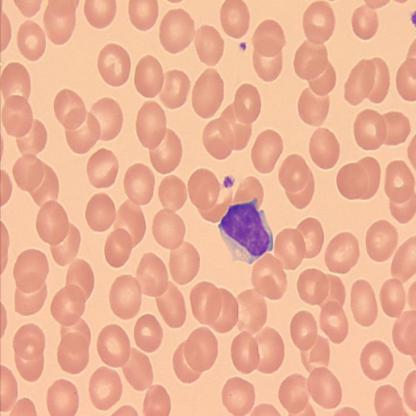Atypical lymphocyte: (219, 196, 274, 263)
